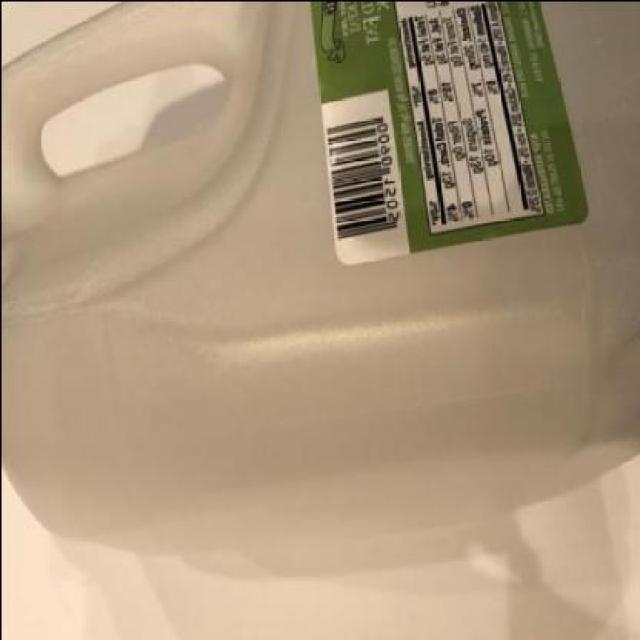PLASTIC: (1, 2, 638, 556)
